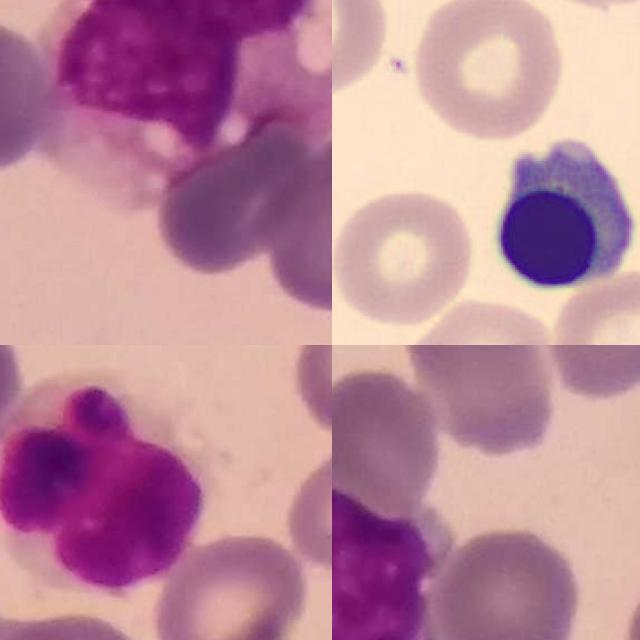Lymphocyte: (0, 369, 213, 596), (476, 127, 640, 300), (332, 433, 454, 640)
Monocyte: (40, 0, 332, 199)
RBC: (404, 0, 570, 143), (332, 183, 477, 328), (397, 293, 563, 345), (547, 266, 640, 345), (332, 0, 392, 99)
